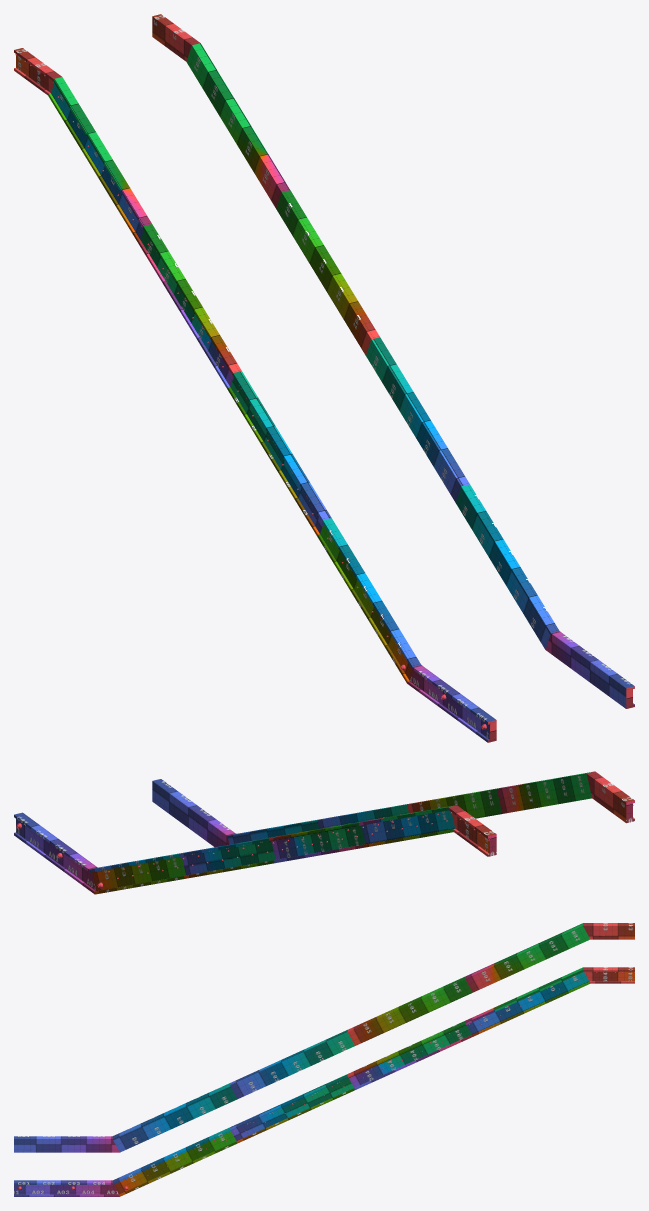
The model's file is Barre.fbx.
The picture shows the model from 3 angles, top to bottom: view 1: azimuth 30°, elevation 25°; view 2: azimuth 210°, elevation 25°; view 3: azimuth 270°, elevation 25°; orthographic projection. The views are drawn at different scales.
Visible parts, largest first — view 1: Barre_low; view 2: Barre_low; view 3: Barre_low.
Boxes of the visible parts, bbox=[...] form: Barre_low: bbox=[14, 14, 634, 742]; Barre_low: bbox=[14, 771, 634, 894]; Barre_low: bbox=[14, 923, 634, 1196].
Size of the model in its own units: 288 by 638 by 1584.
